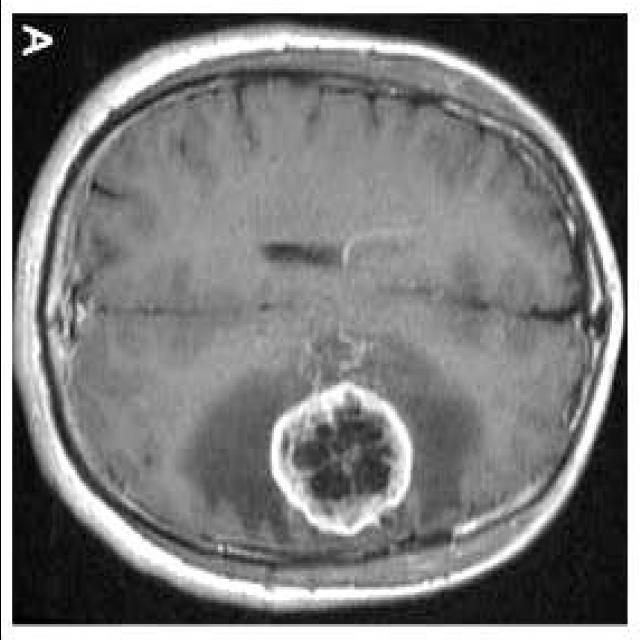tumor: (264, 382, 412, 536)
